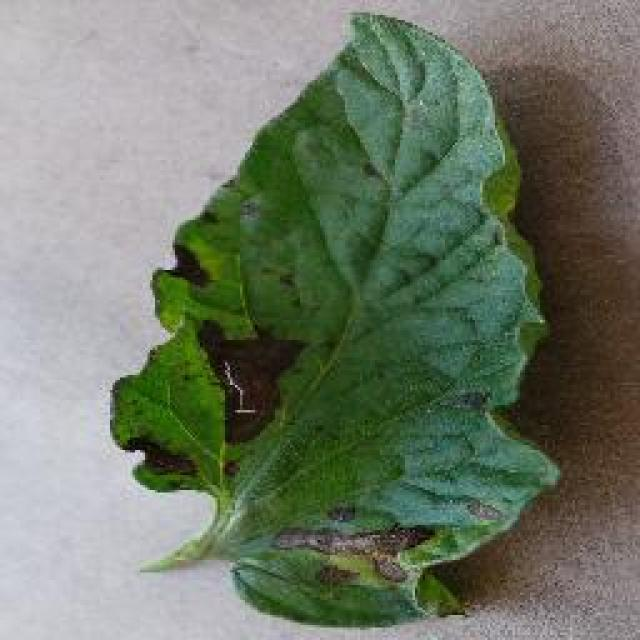Tomato Early blight leaf: (138, 15, 560, 625)
